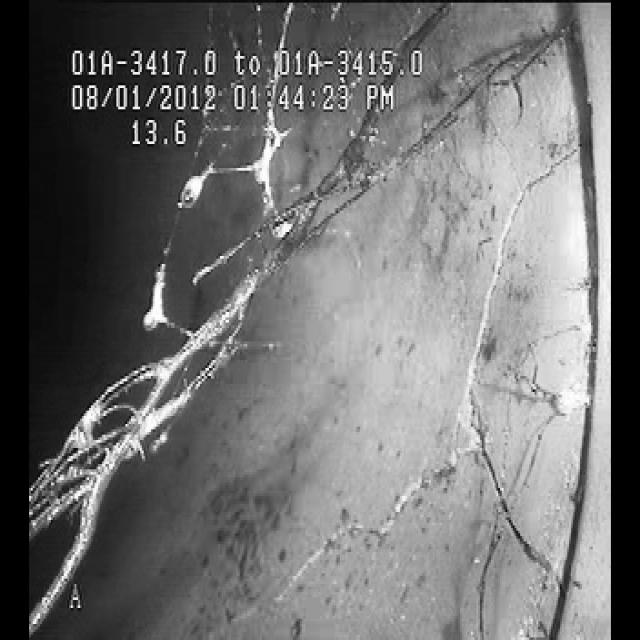Crack: (446, 161, 576, 573)
Fracture: (58, 166, 298, 552)
